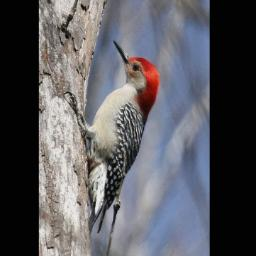Woodpecker: (59, 36, 164, 243)
